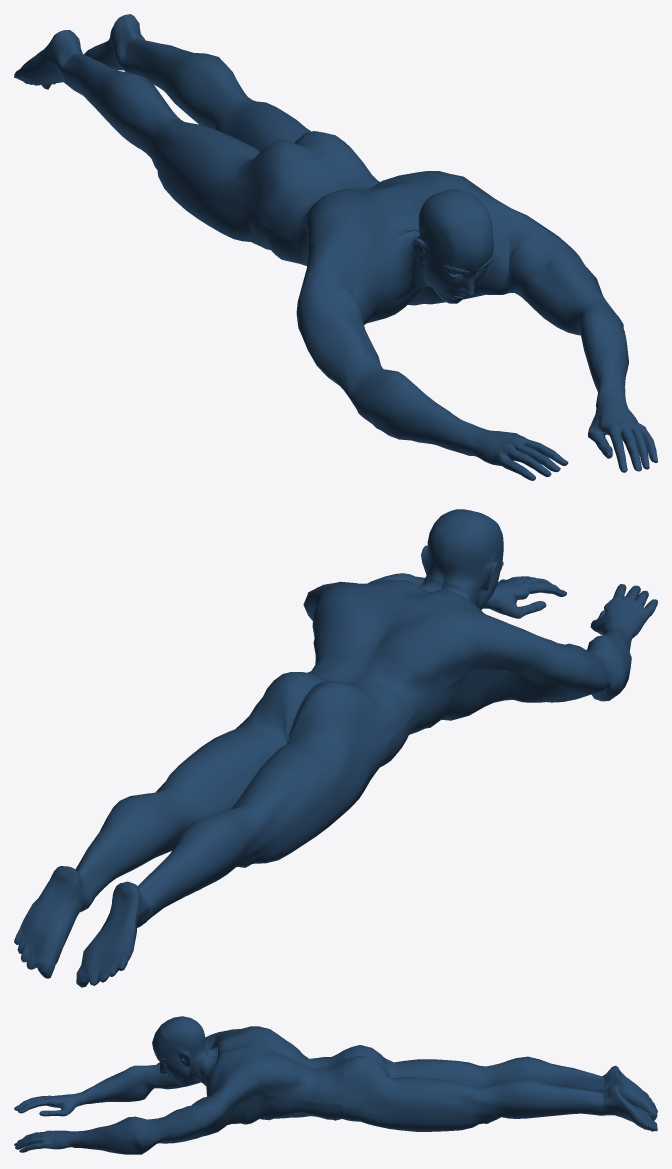
File: nage-homme.glb
3 renders of one model, top to bottom at view 1: azimuth 30°, elevation 25°; view 2: azimuth 150°, elevation 25°; view 3: azimuth 270°, elevation 25°, orthographic. The views are drawn at different scales.
Parts seen in each view (by area): view 1: SuperHero_Male; view 2: SuperHero_Male; view 3: SuperHero_Male.
Boxes of the visible parts, box(x1,y1,x2,y2) form: SuperHero_Male: box(14, 14, 657, 480); SuperHero_Male: box(14, 509, 657, 987); SuperHero_Male: box(14, 1016, 657, 1154).
Bounding box in the file's own units: 0.704 × 0.4535 × 2.32.
